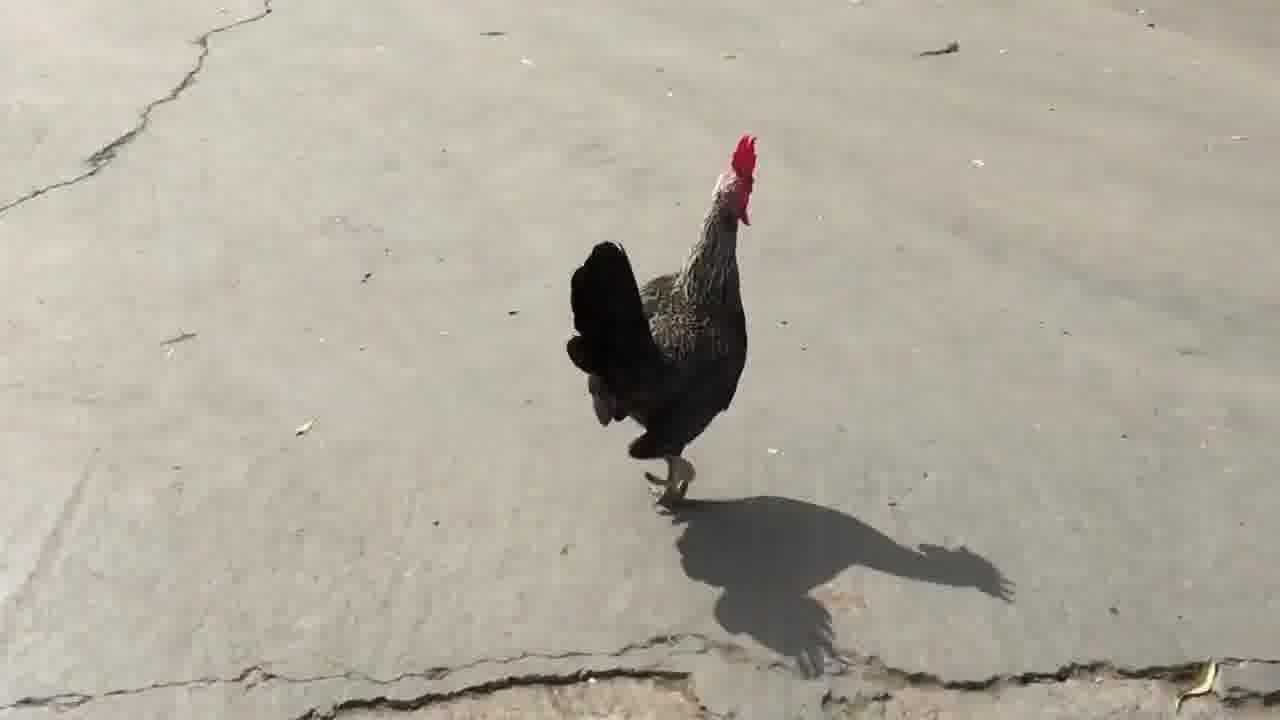Normal: (550, 128, 806, 520)
